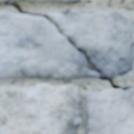brick: (0, 85, 81, 133), (58, 0, 81, 1), (27, 0, 45, 1)
broken_brick: (0, 10, 97, 79), (50, 11, 133, 77), (86, 86, 133, 133)
crack: (2, 0, 131, 92), (22, 75, 43, 77)
